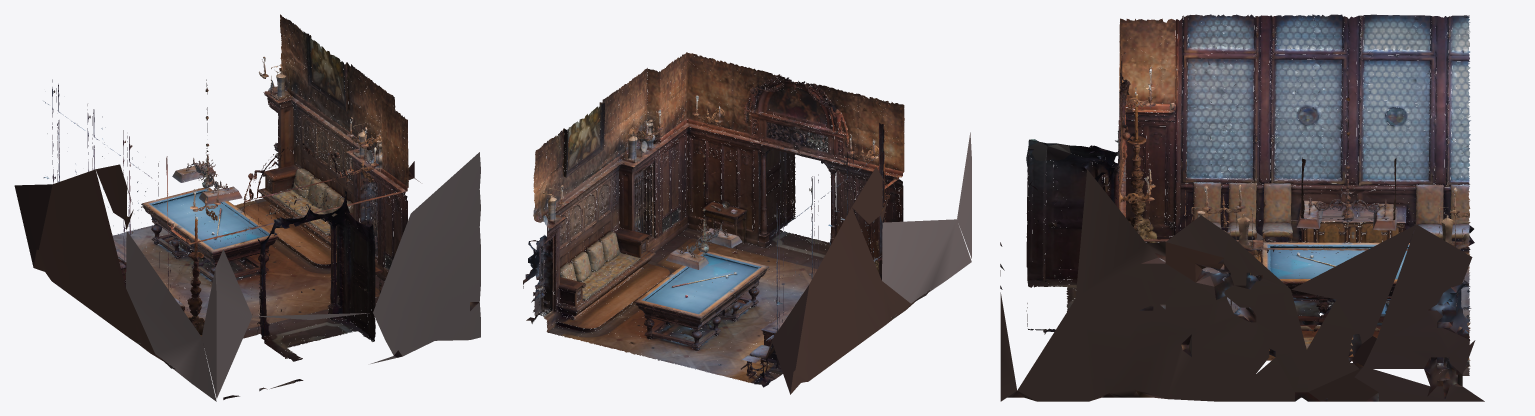
The model's file is the_billiards_room.glb.
The picture shows the model from 3 angles, left to right: view 1: azimuth 30°, elevation 25°; view 2: azimuth 150°, elevation 25°; view 3: azimuth 270°, elevation 25°; orthographic projection. The views are drawn at different scales.
Parts seen in each view (by area): view 1: Object_2; view 2: Object_2; view 3: Object_2.
Part boxes in pixels (<box>): Object_2: <box>14,14,480,401</box>; Object_2: <box>523,52,971,394</box>; Object_2: <box>1000,14,1484,401</box>.
Size of the model in its own units: 5.13 by 3.5 by 7.01.
Materials: 1 (1 with a texture image).
